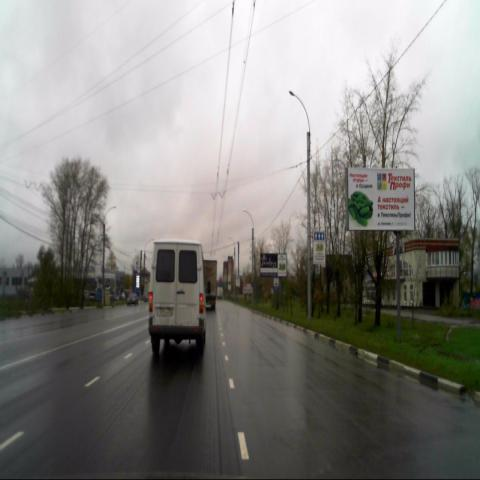7_5: (272, 275, 280, 292)
